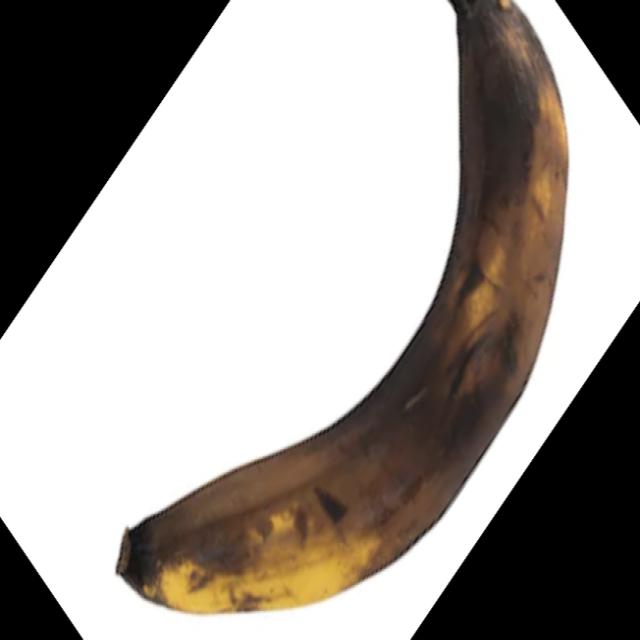Rotten: (118, 0, 568, 615)
